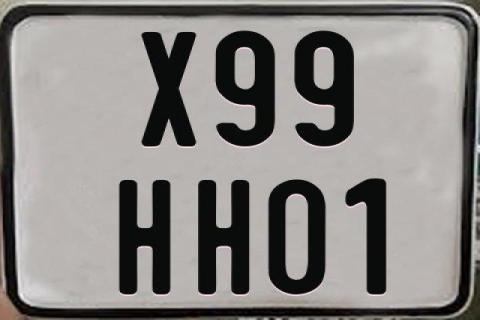0: (292, 30, 356, 146), (215, 30, 278, 146), (266, 178, 325, 296), (342, 176, 386, 297)
H: (116, 180, 172, 294), (196, 180, 248, 294)
X: (140, 32, 201, 147)
